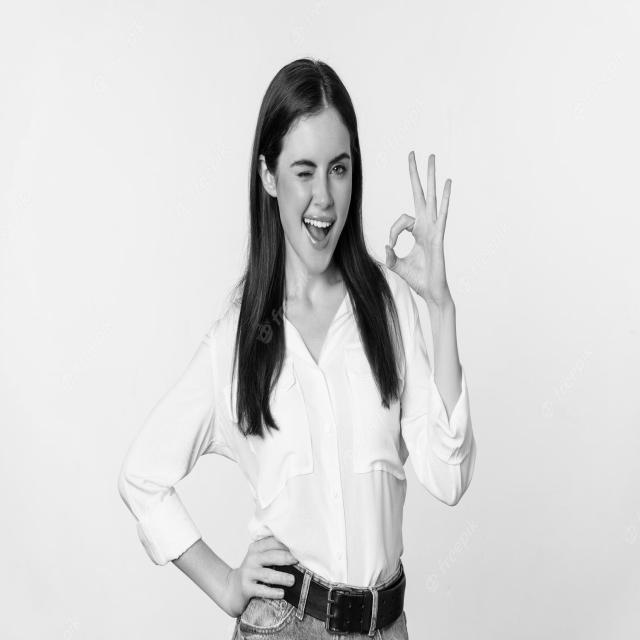perfect: (379, 145, 456, 306)
